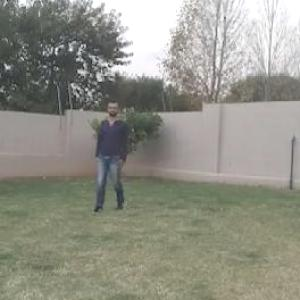follow: (95, 101, 123, 207)
